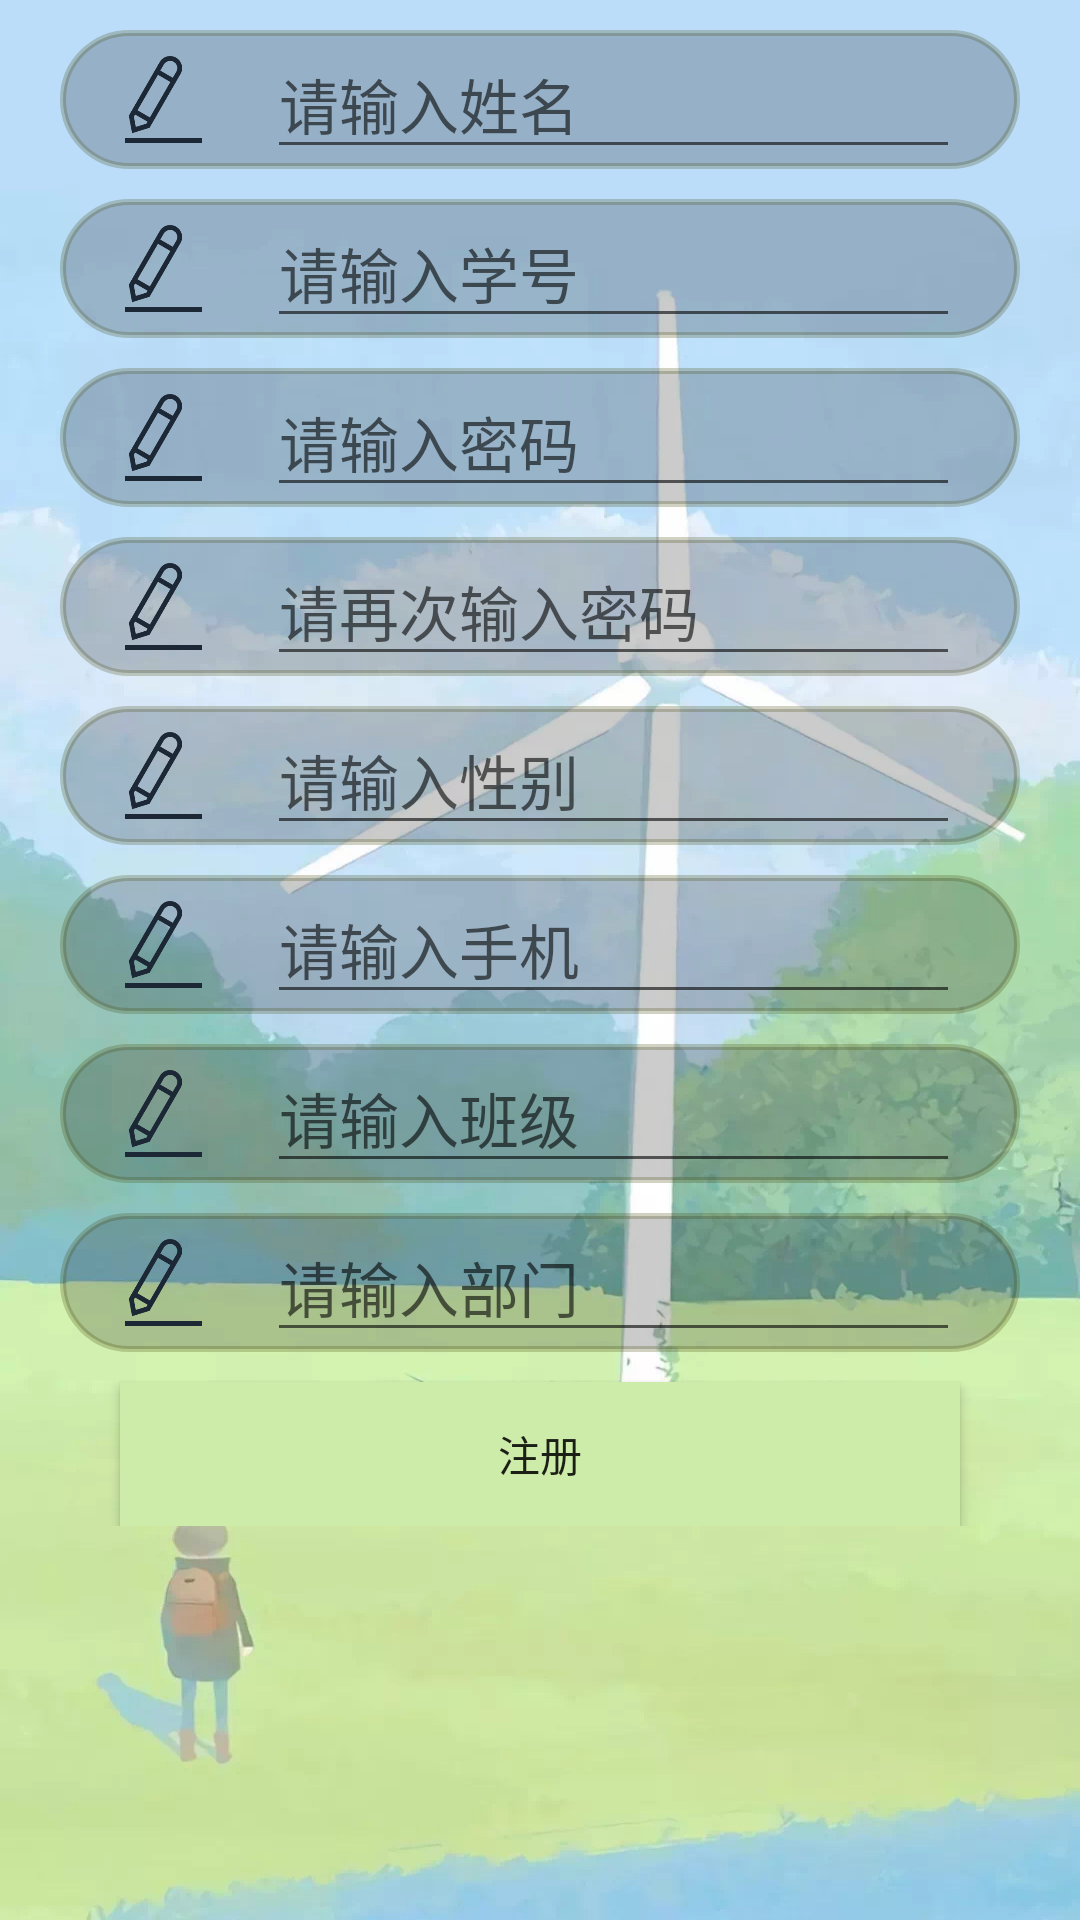

Icon click points for this 1080x1920 phone screenshot, format (x=x, y=y):
input: (x=163, y=99), (x=163, y=268), (x=163, y=437), (x=163, y=606), (x=163, y=775), (x=193, y=944), (x=163, y=1113), (x=193, y=1282)
